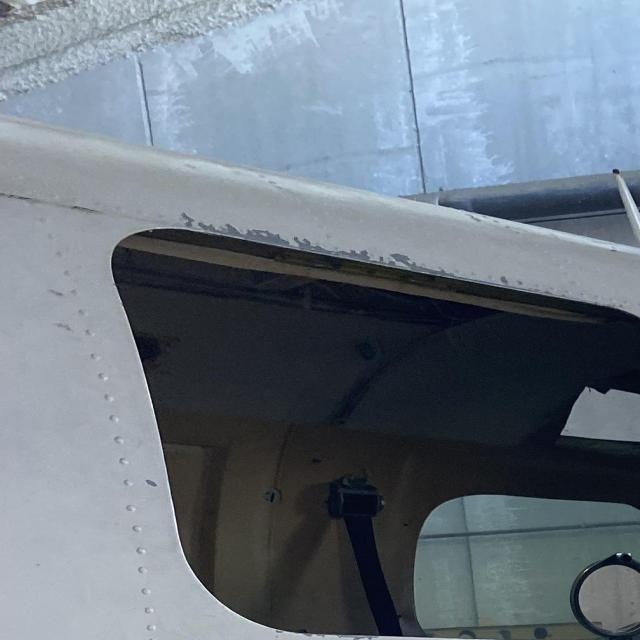Paint-off: (359, 245, 419, 272), (36, 279, 73, 308), (45, 313, 82, 338), (138, 473, 163, 492), (497, 272, 509, 287), (348, 635, 371, 640)
